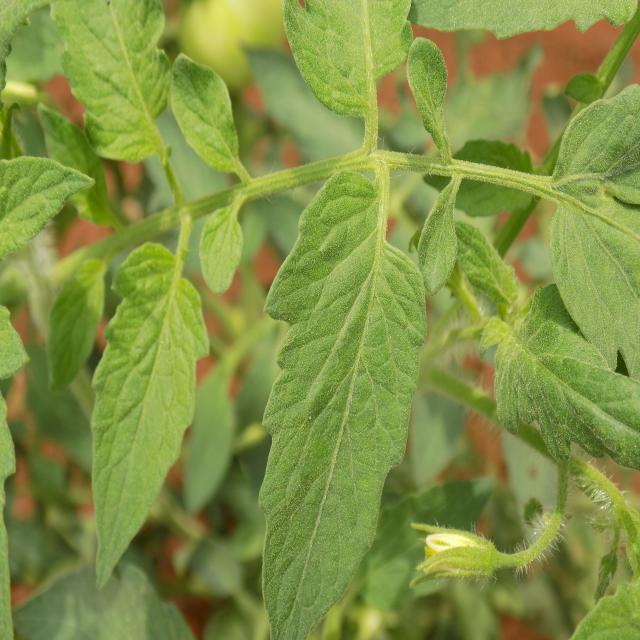tomato_healthy: (257, 161, 430, 640), (85, 234, 209, 596), (166, 41, 246, 188)
